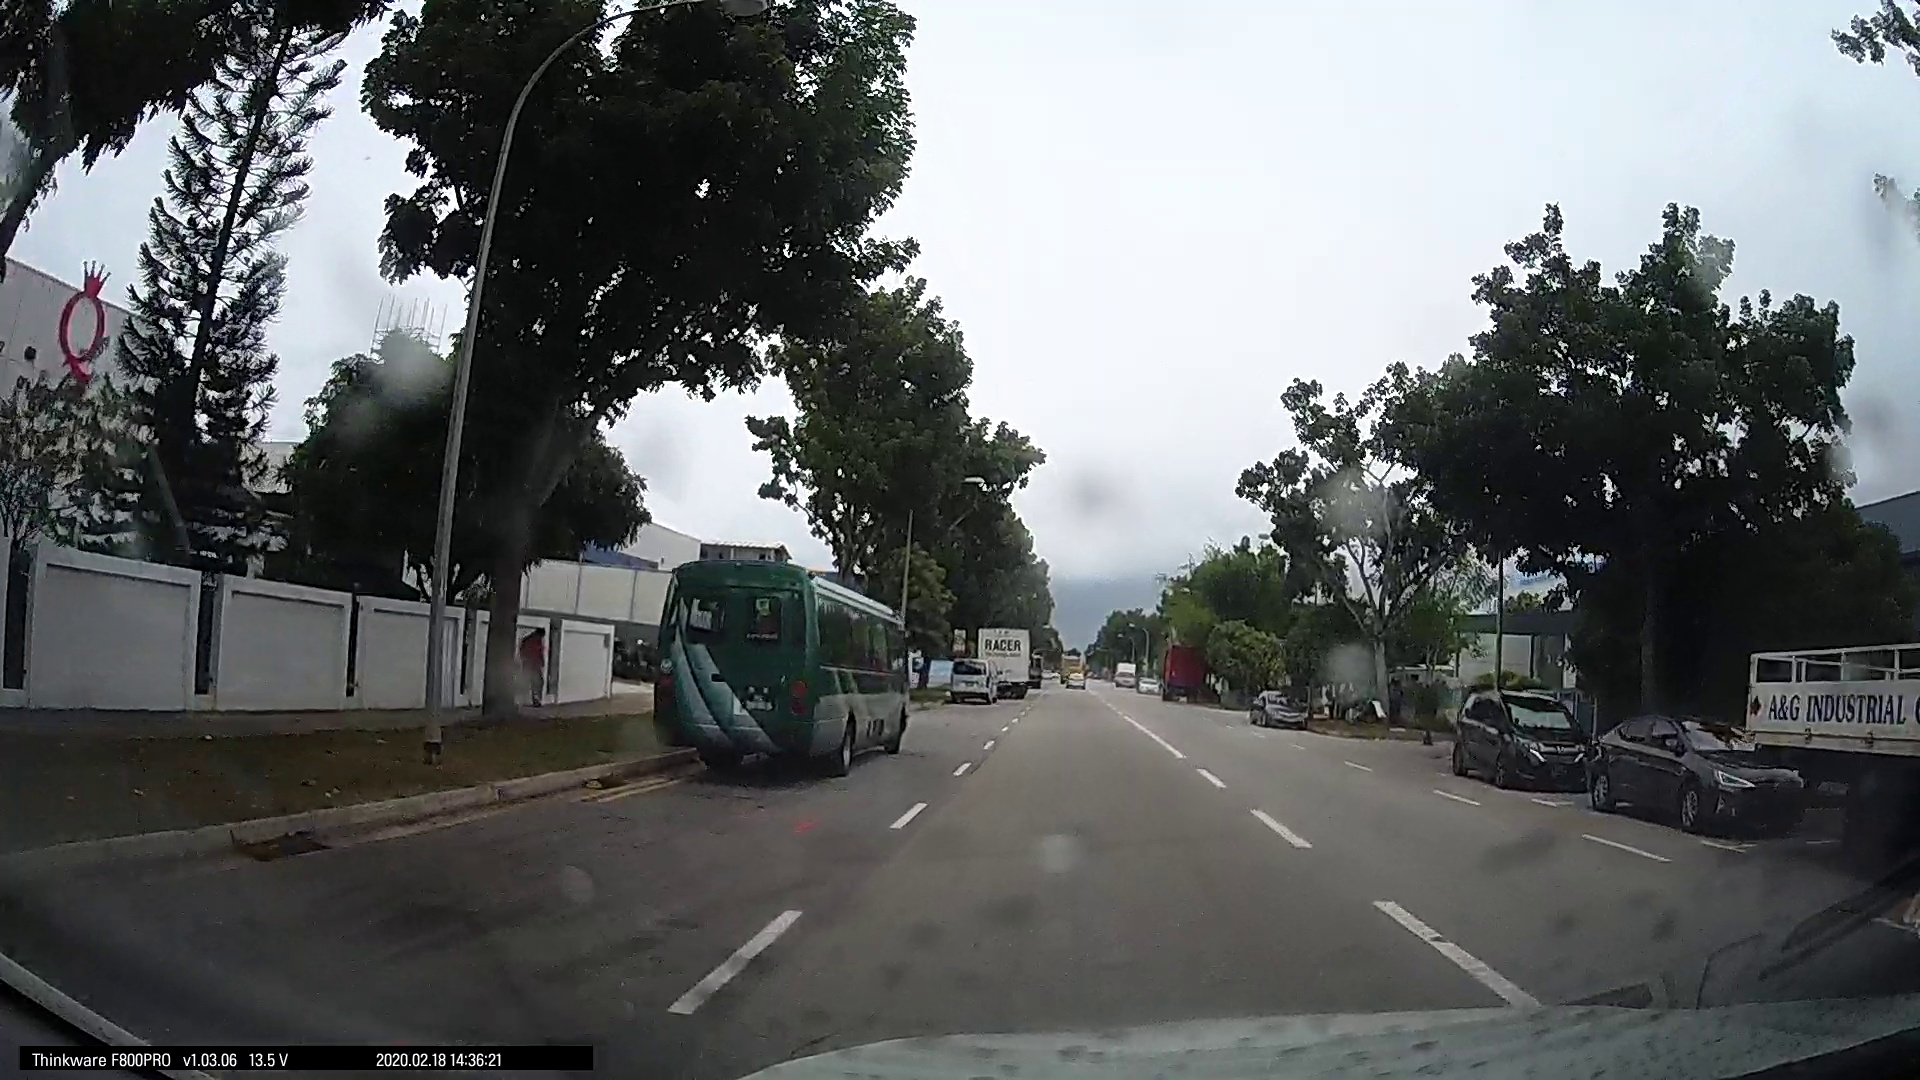Heavy Vehicle: (644, 558, 913, 775), (971, 629, 1033, 699)
Light Vehicle: (1578, 700, 1811, 835), (1447, 683, 1592, 791), (938, 655, 998, 702), (1249, 684, 1305, 729)
